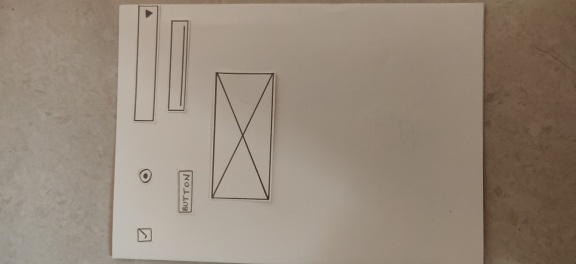button: (173, 167, 196, 216)
checkbox: (132, 226, 156, 245)
dropdown: (130, 4, 161, 126)
img: (207, 69, 278, 204)
radio: (136, 166, 154, 186)
text: (166, 17, 193, 116)
